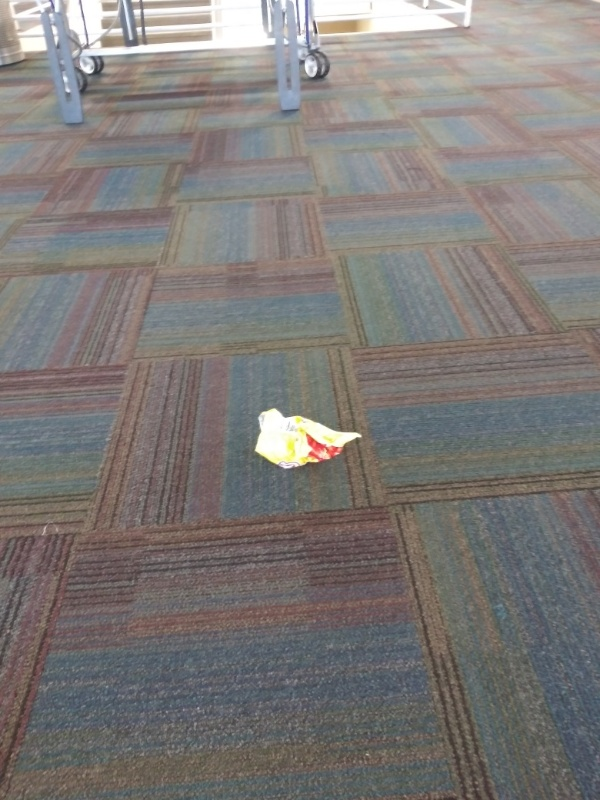bag: (253, 406, 364, 481)
